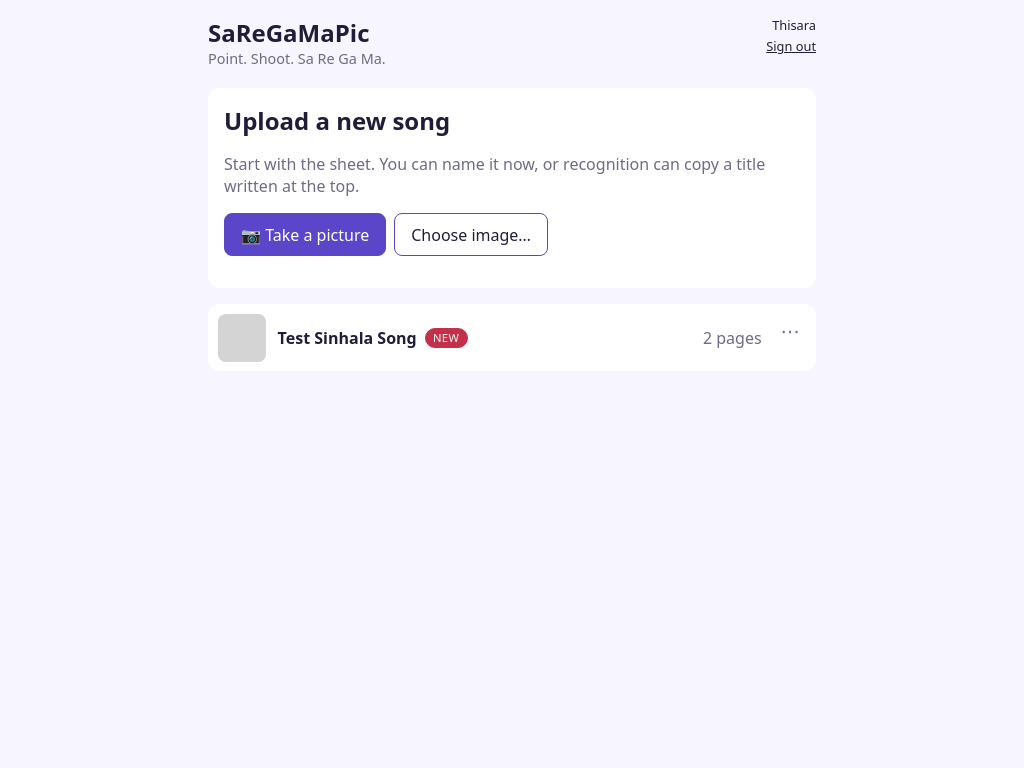
App › opens the digital version straight from the song card once one exists
The width and height of the screenshot is (1024, 768).
Expected: the text "Test Sinhala Song" is shown, [278,327,417,349]
Click the button named "Actions for Test Sinhala Song": (790, 330) [768,308,812,352]
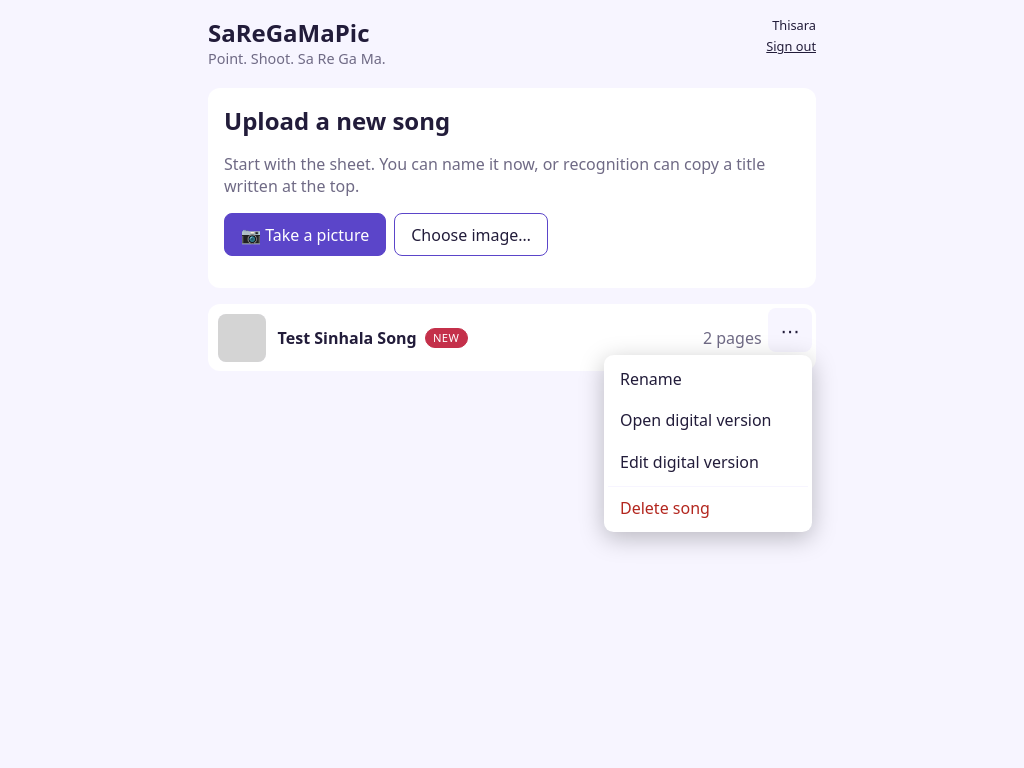
Expected: the menu item "Open digital version" is enabled
Click the menu item "Open digital version": (708, 420) [608,400,808,441]
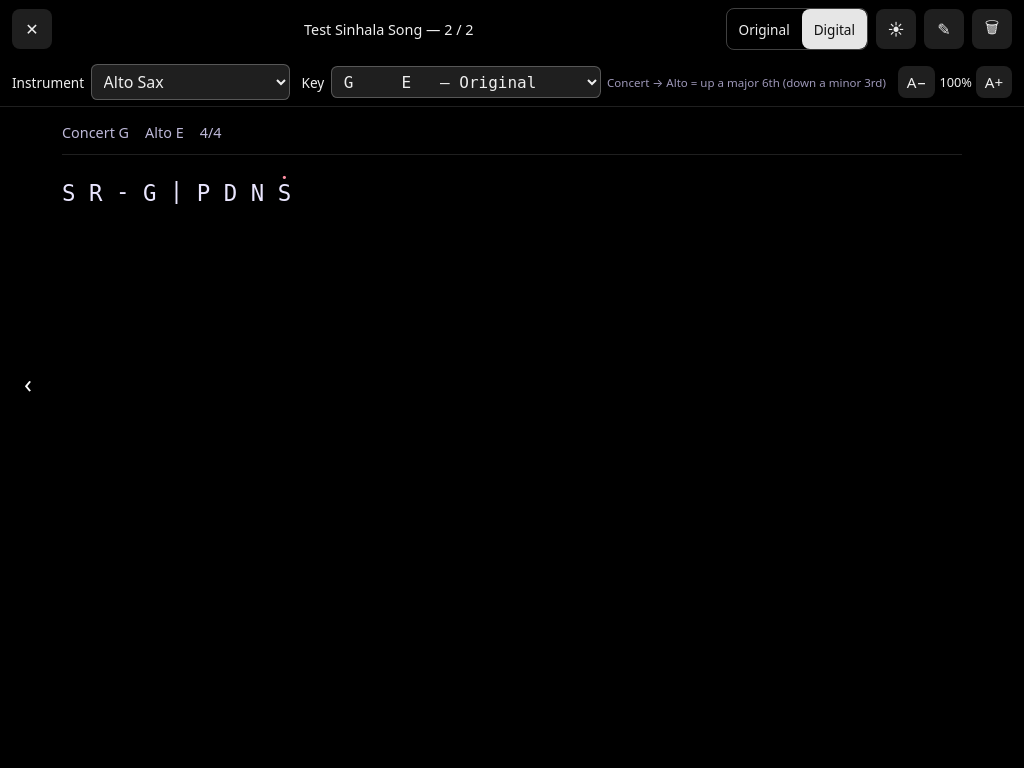
Expected: the text "Test Sinhala Song — 2 / 2" is shown, [304,20,474,38]
